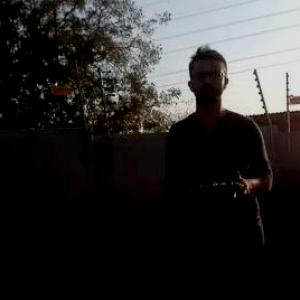follow: (158, 35, 282, 299)
